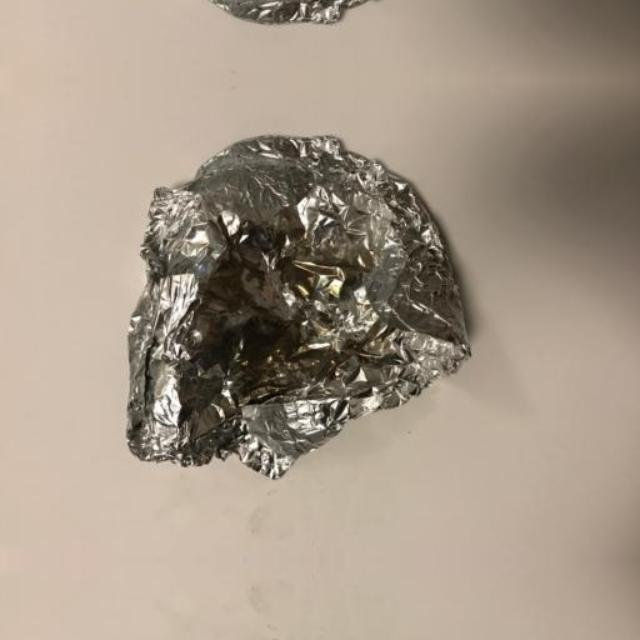Metal: (90, 121, 496, 507), (90, 0, 496, 39), (90, 613, 496, 640)
